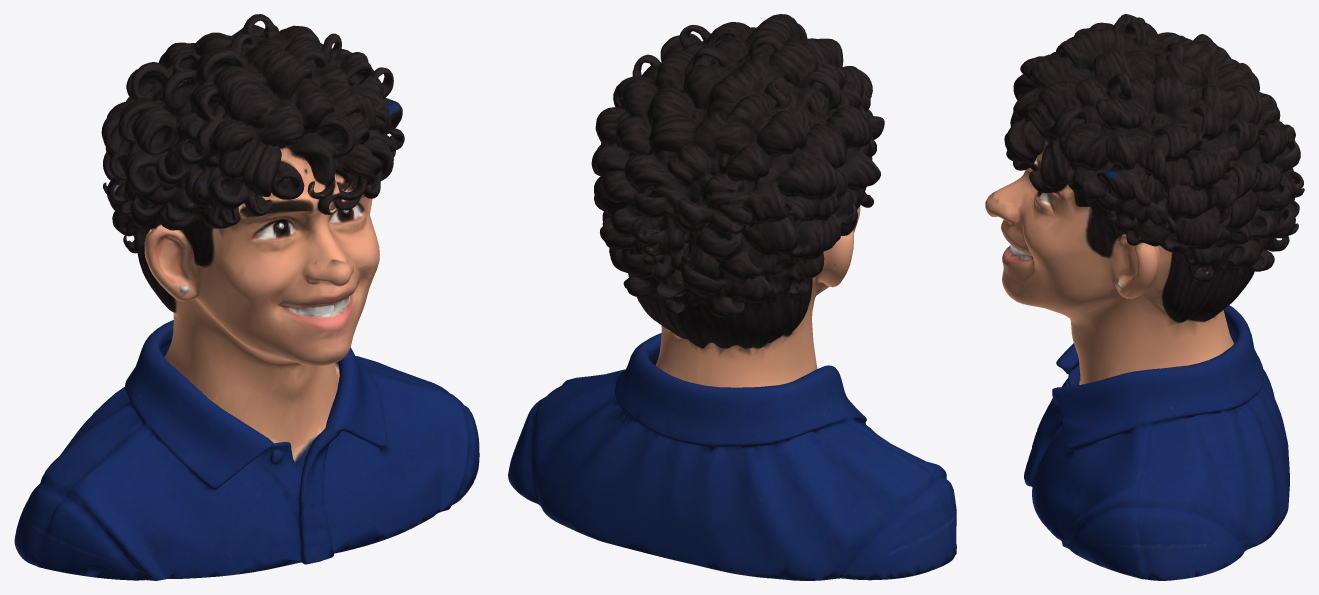
Rendered from avatar.glb.
The picture shows the model from 3 angles, left to right: view 1: azimuth 30°, elevation 25°; view 2: azimuth 150°, elevation 25°; view 3: azimuth 270°, elevation 25°; orthographic projection. The views are drawn at different scales.
Parts seen in each view (by area): view 1: Arush stylized avatar — Meshy 6 Lite; view 2: Arush stylized avatar — Meshy 6 Lite; view 3: Arush stylized avatar — Meshy 6 Lite.
Boxes of the visible parts, x1=… form: Arush stylized avatar — Meshy 6 Lite: x1=14, y1=14, x2=479, y2=580; Arush stylized avatar — Meshy 6 Lite: x1=508, y1=14, x2=956, y2=580; Arush stylized avatar — Meshy 6 Lite: x1=985, y1=14, x2=1304, y2=580.
Bounding box in the file's own units: 3.1 × 3.23 × 2.08.
Materials: 1 (1 with a texture image).
